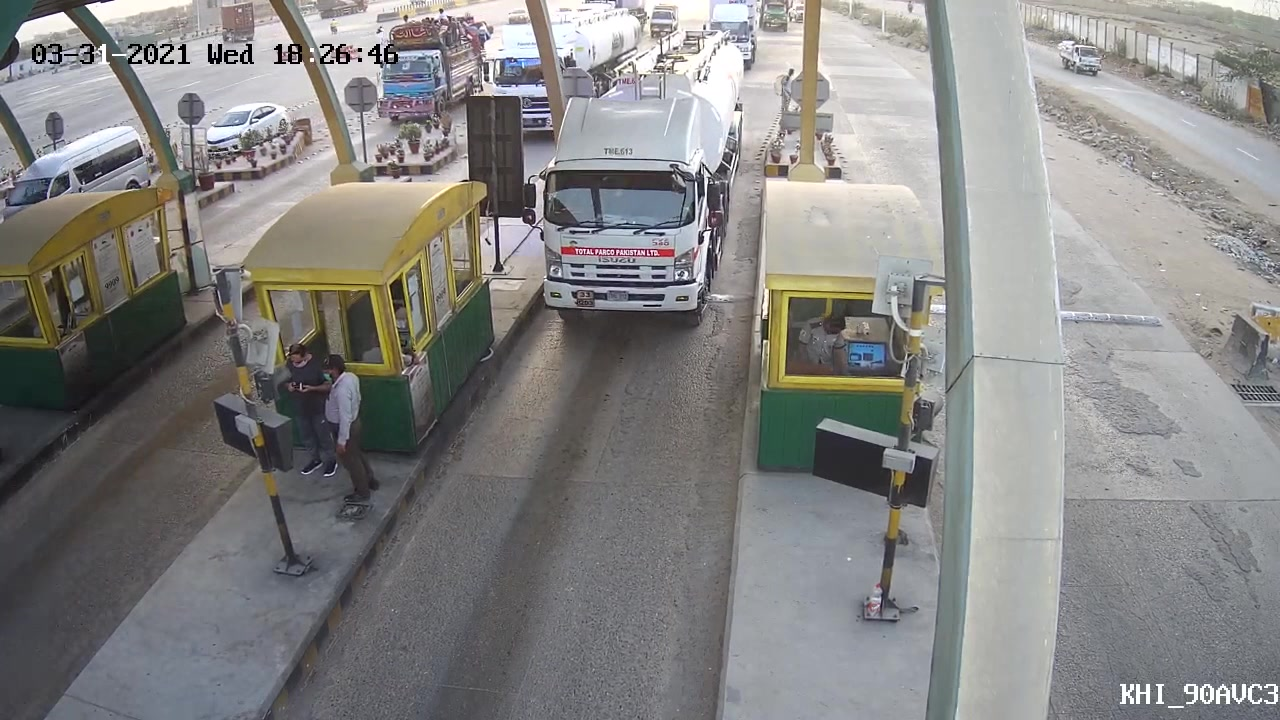F6: (517, 24, 752, 325)
